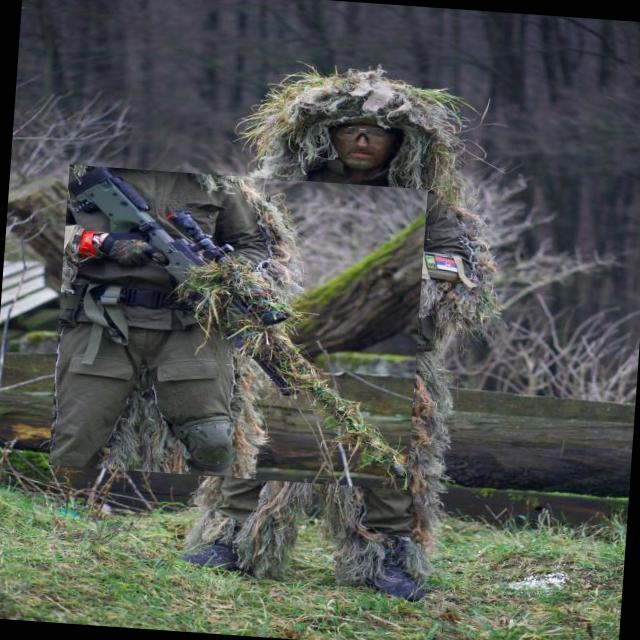Gun: (68, 167, 407, 489)
